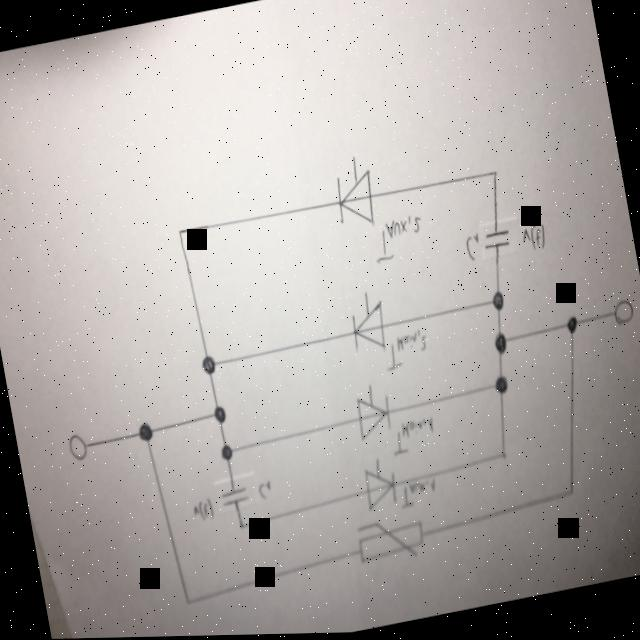capacitor: (480, 229, 513, 257), (218, 485, 252, 511)
junction: (135, 421, 155, 446), (198, 354, 218, 379), (492, 333, 509, 359), (489, 292, 507, 316), (492, 376, 510, 399), (218, 444, 235, 465), (212, 405, 228, 427), (564, 317, 580, 339), (498, 452, 508, 467), (184, 598, 194, 609), (236, 522, 246, 533), (490, 170, 500, 181), (566, 490, 576, 501), (175, 227, 184, 238)
terminal: (65, 431, 92, 465), (611, 301, 635, 331)
text: (368, 215, 428, 269), (380, 330, 431, 376), (386, 417, 438, 461), (396, 479, 440, 515), (518, 222, 550, 258), (190, 498, 216, 526), (462, 235, 484, 266), (256, 481, 274, 504)
thyristor: (330, 165, 380, 236), (345, 298, 391, 360), (352, 391, 396, 447), (359, 464, 401, 517)
